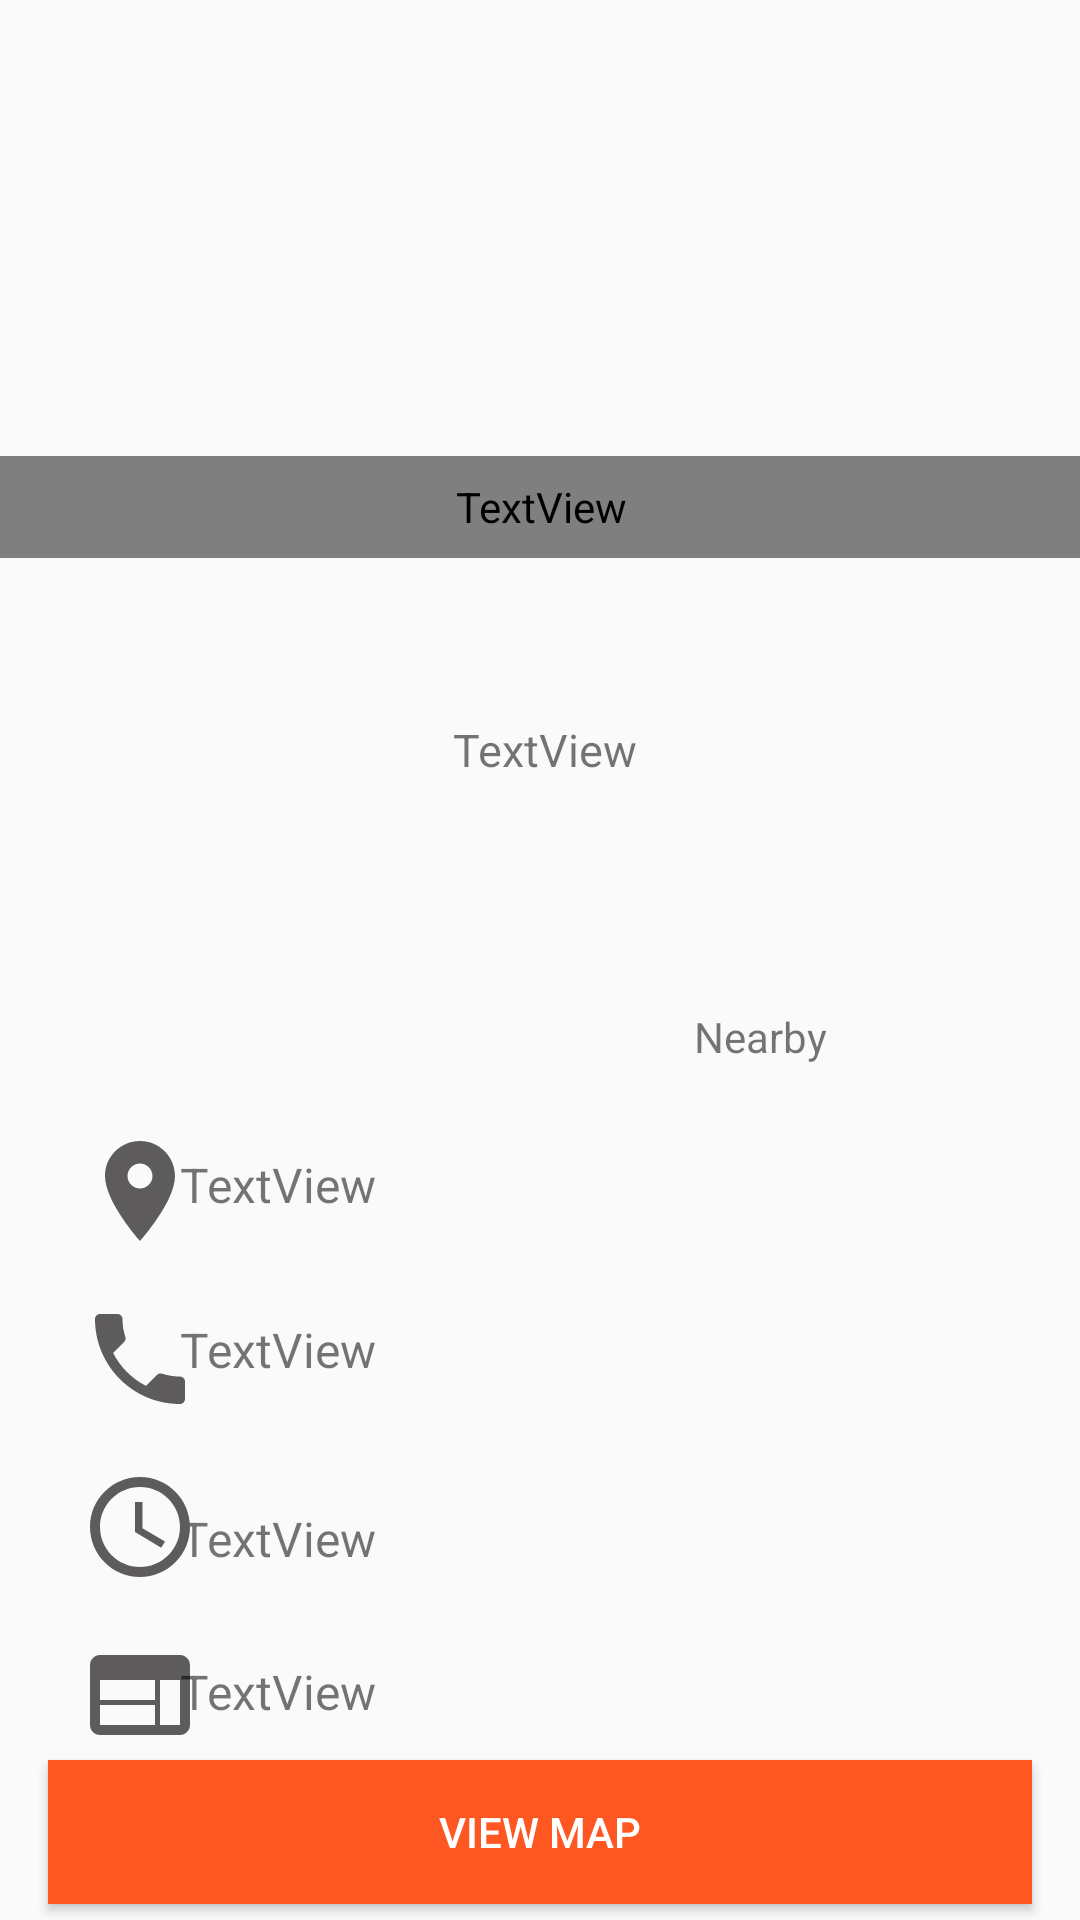

Named icons in this screenshot (1080*1920) and their centers, [x,y]:
access time: [145,1527]
local phone: [140,1359]
location on: [140,1191]
web: [145,1695]
